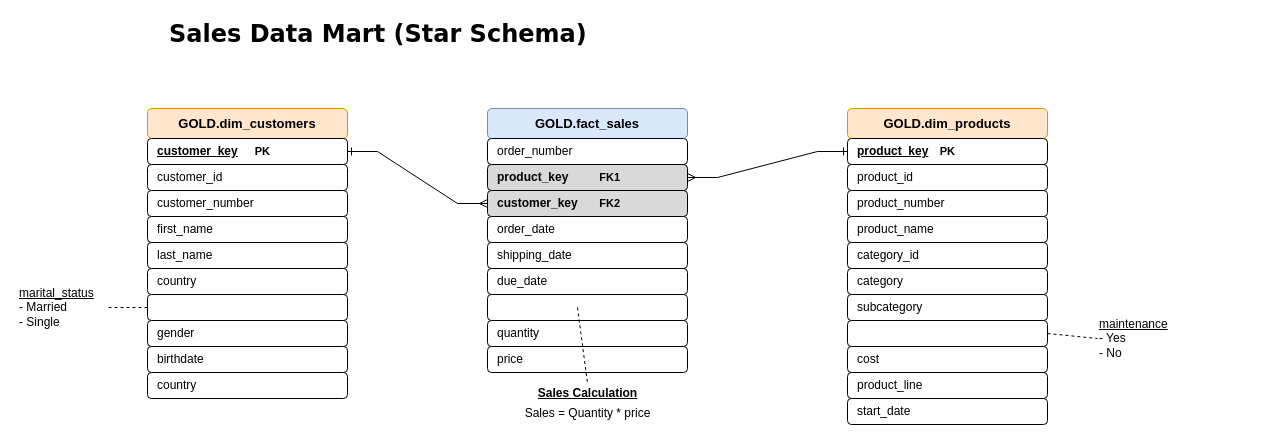
This 1264x442 diagram has some shape labels left out. The shapes that lost their labels are listed below. From the top down, each one's centre as x and y in pixels, then its label:
At (247,307): "marital_status".
At (587,307): "sales_amount".
At (947,333): "maintenance".
